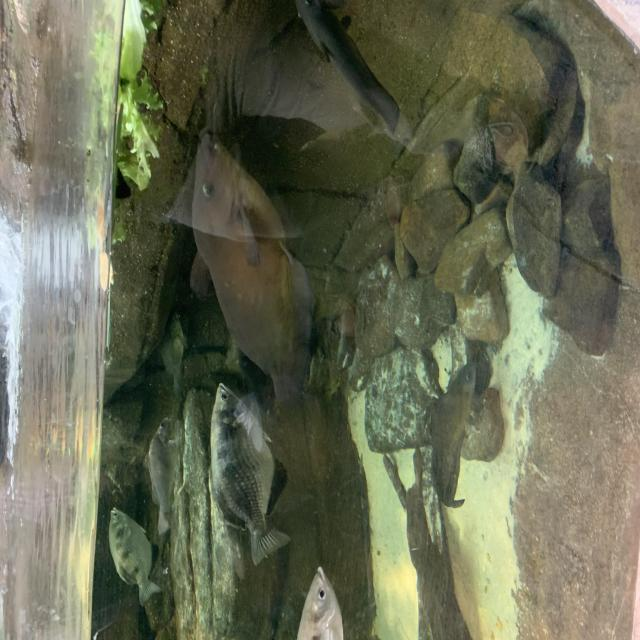fish: (191, 133, 313, 410), (208, 384, 292, 569), (291, 0, 400, 136), (107, 505, 163, 608), (143, 415, 181, 536), (294, 564, 346, 640)
